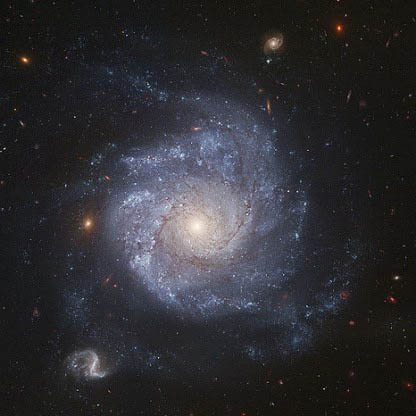NGC 1309: (45, 26, 359, 393)
